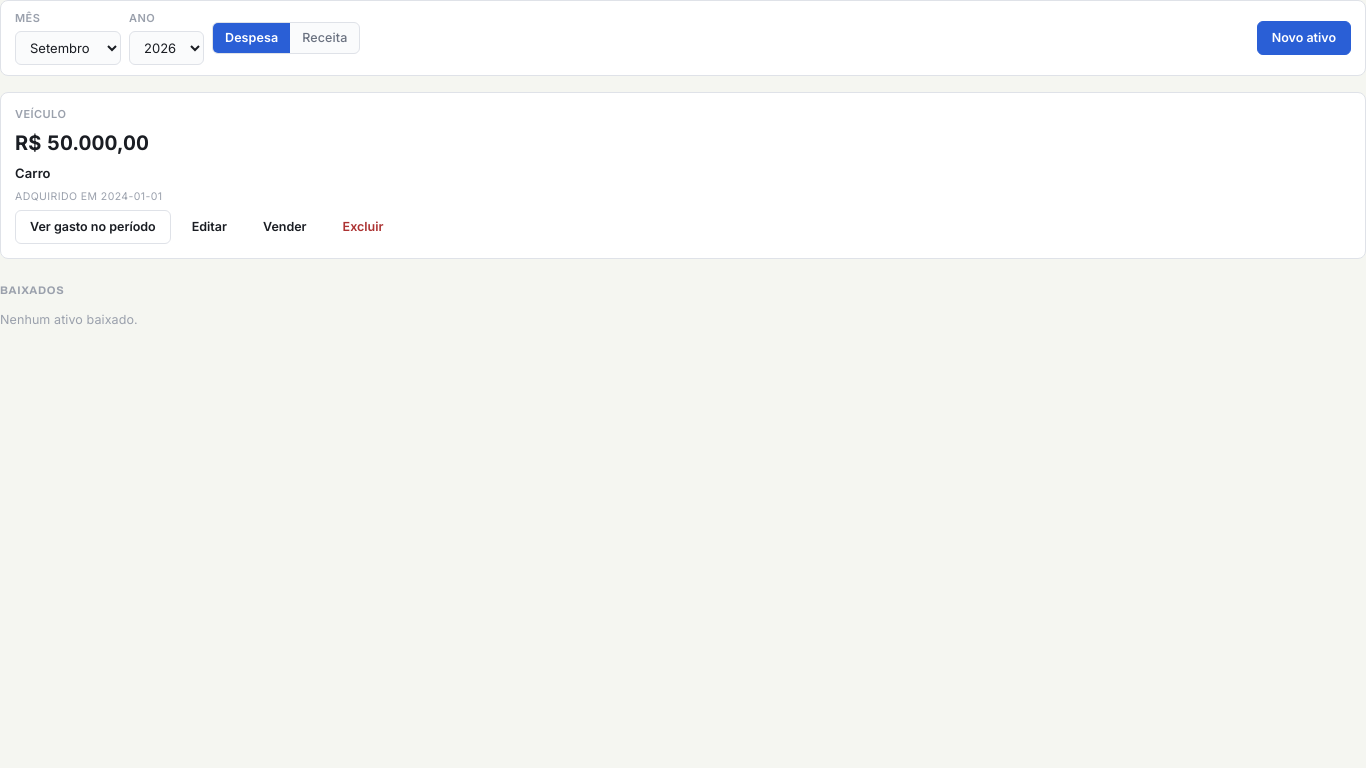
Test: AssetsPage › selling an already-sold asset surfaces the backend's idempotency error
Expected: the text "Carro" is shown, [15,165,51,181]
Click the button "Vender" at (285, 227), box [248,210,322,244]
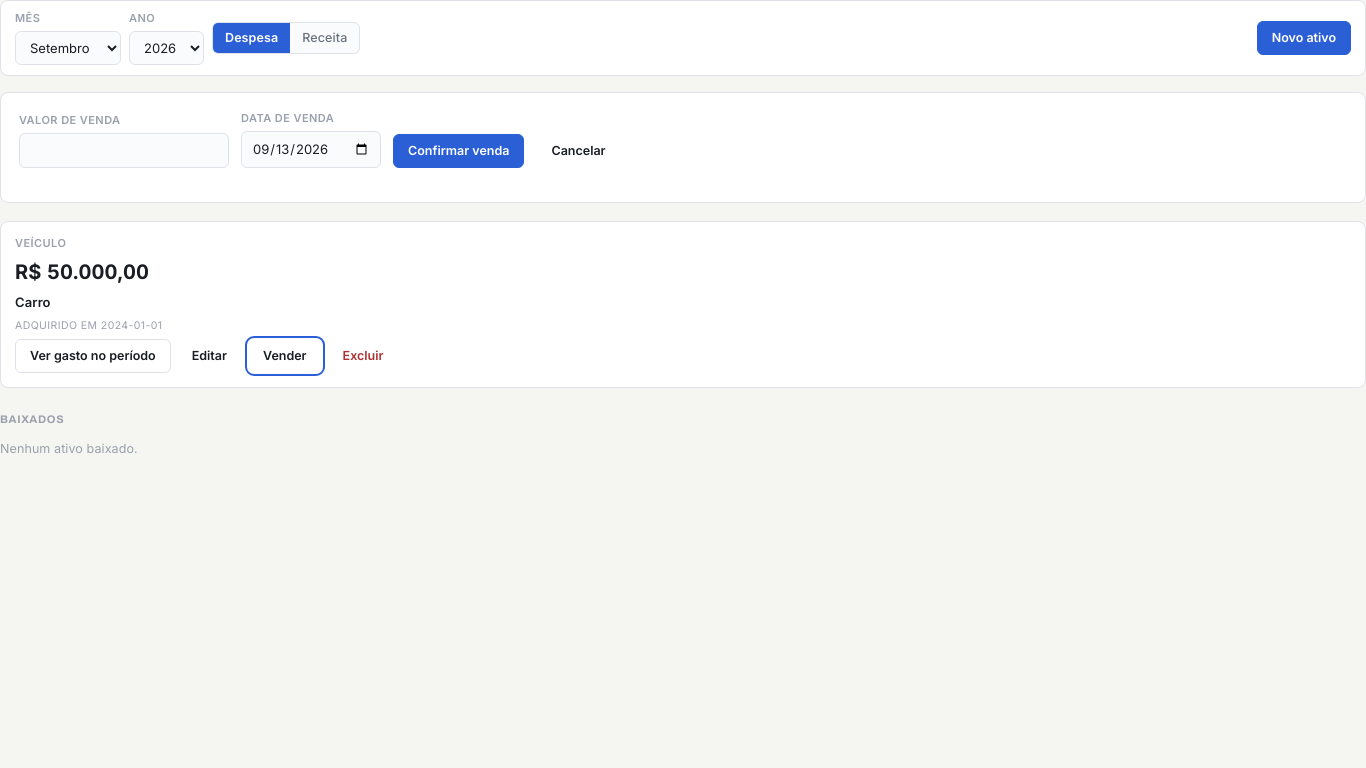
Type "45000" into the number field labelled "Valor de venda" at (124, 150), box [19,133,229,168]
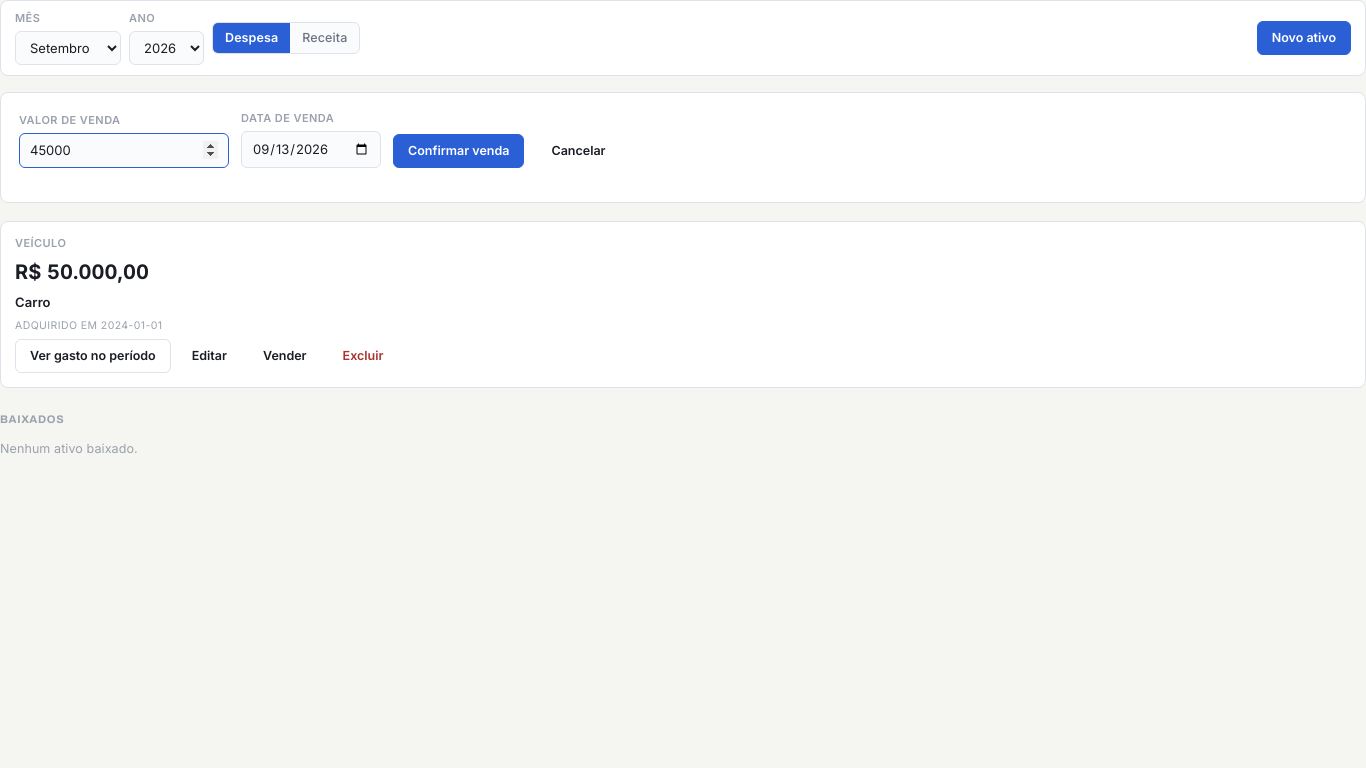
Type "2026-08-01" into the date field labelled "Data de venda" at (311, 149), box [241,131,381,168]
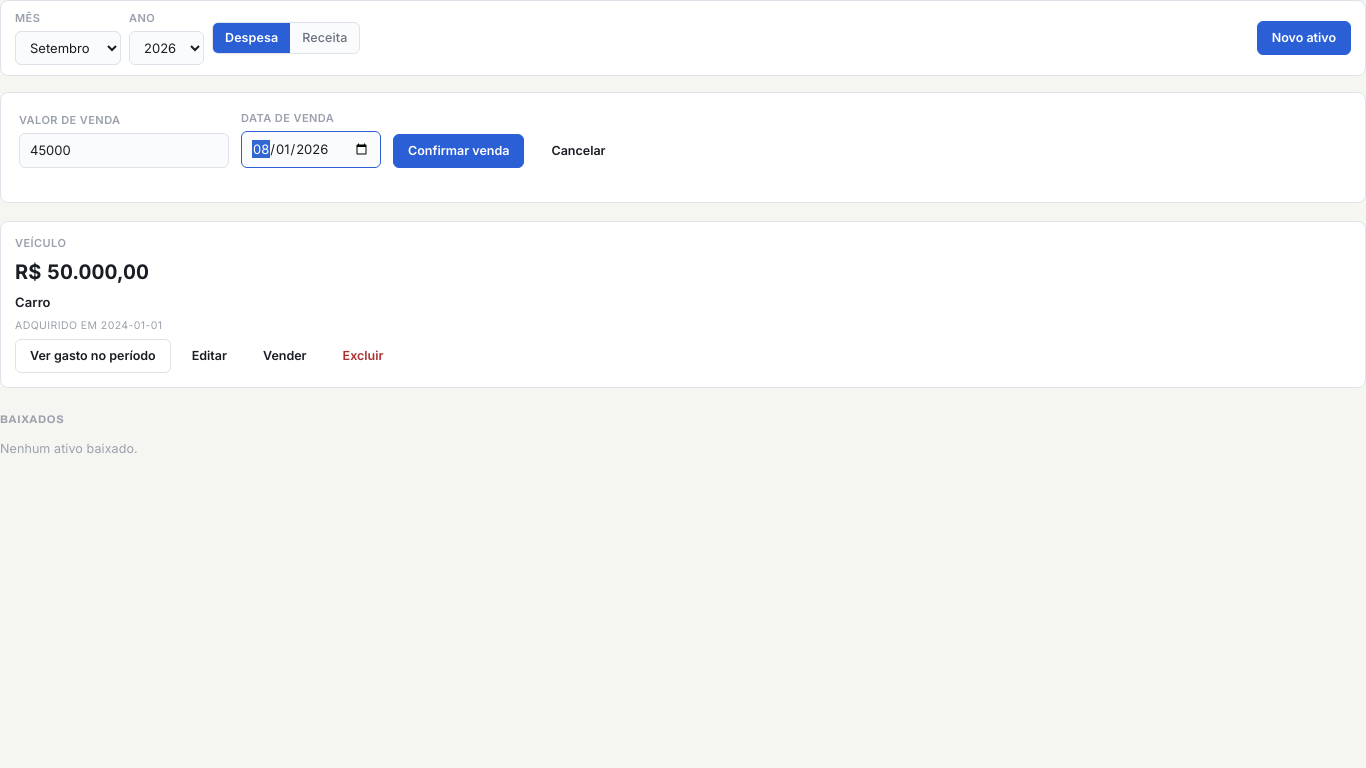
Click the button "Confirmar venda" at (459, 151), box [393,134,524,168]
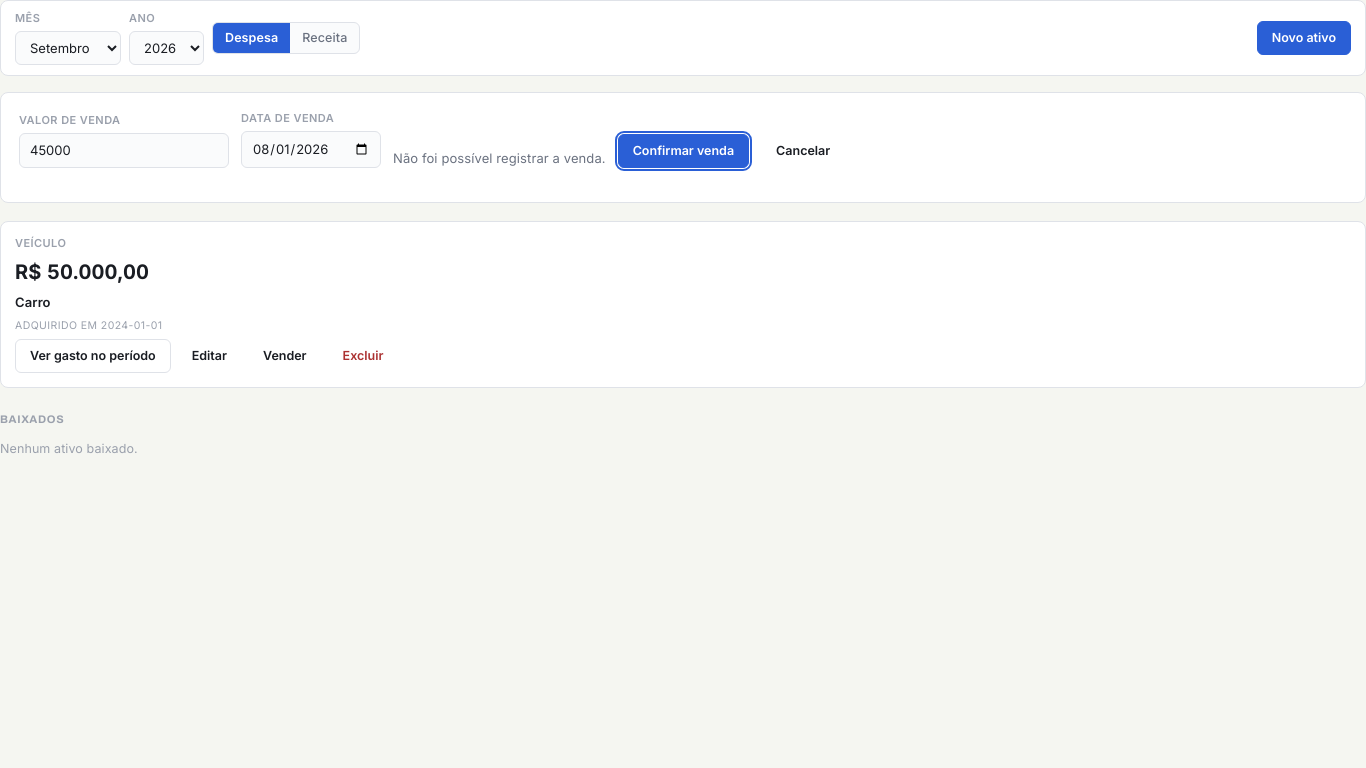
Now the text "Não foi possível registrar a venda." is shown, box [393,149,606,168]
